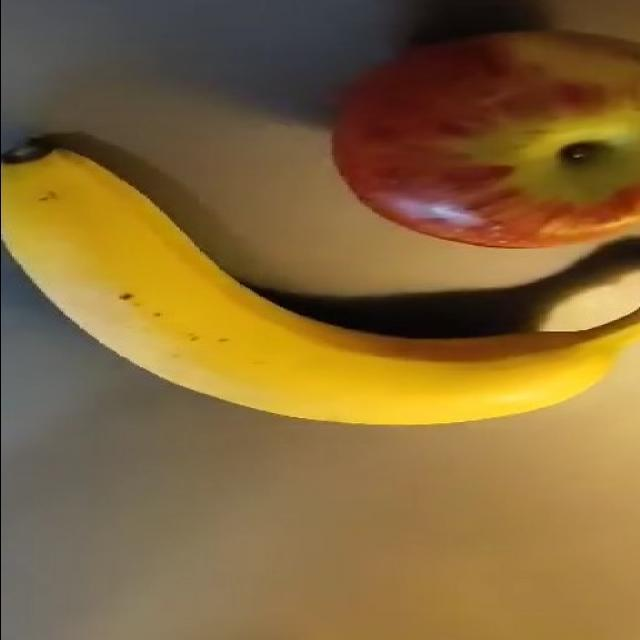Apple: (329, 27, 639, 249)
Banana: (0, 137, 639, 426)
